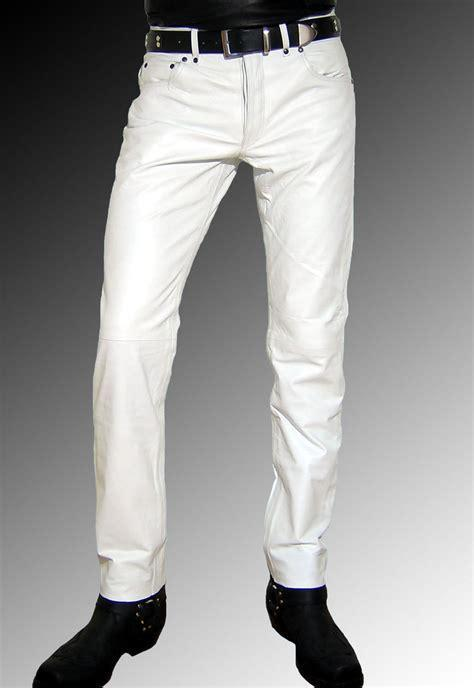pants: (92, 14, 358, 604)
